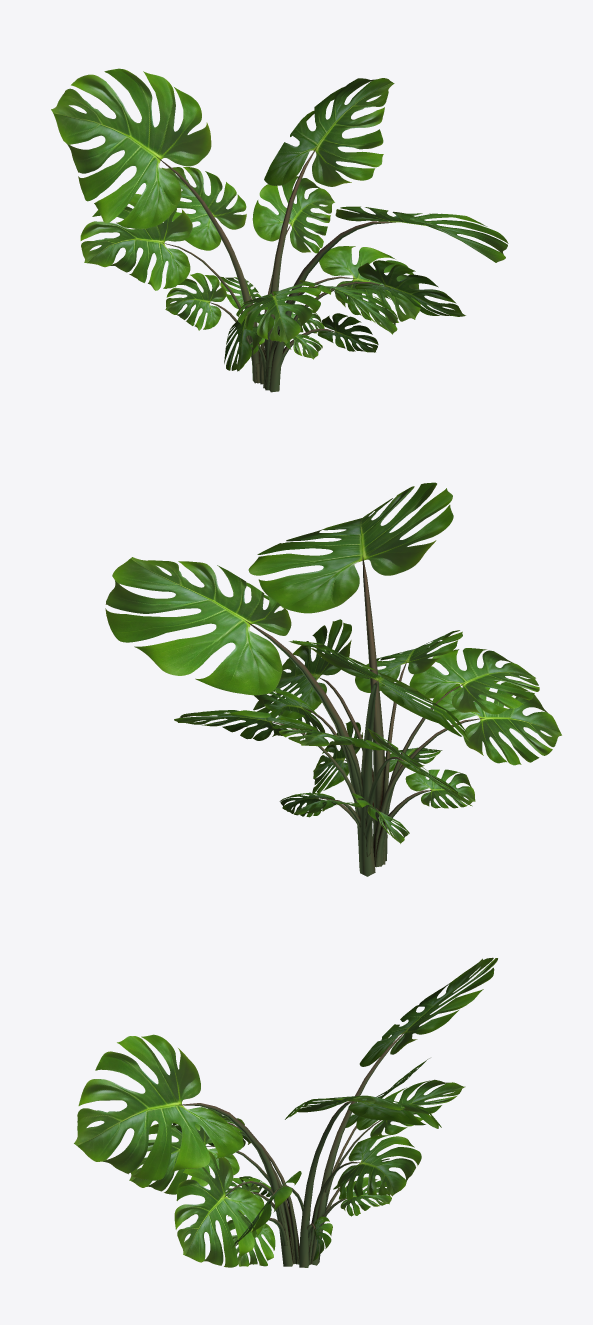
The model's file is tree15.fbx.
3 renders of one model, top to bottom at view 1: azimuth 30°, elevation 25°; view 2: azimuth 150°, elevation 25°; view 3: azimuth 270°, elevation 25°, orthographic. The views are drawn at different scales.
Parts seen in each view (by area): view 1: tree.002SM_MZRa_Monstera_B074; view 2: tree.002SM_MZRa_Monstera_B074; view 3: tree.002SM_MZRa_Monstera_B074.
Part boxes in pixels (x1,y1,x2,y2): tree.002SM_MZRa_Monstera_B074: [51, 68, 508, 392]; tree.002SM_MZRa_Monstera_B074: [105, 482, 561, 876]; tree.002SM_MZRa_Monstera_B074: [74, 957, 497, 1267].
Size of the model in its own units: 327 by 237 by 401.
